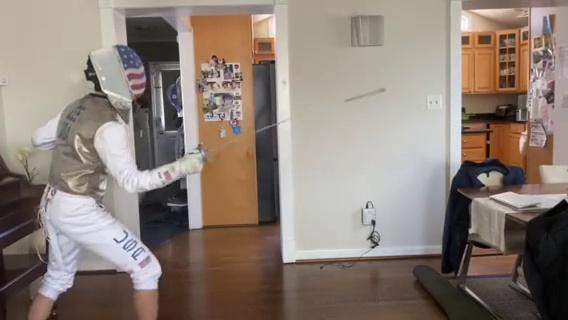blade-guard: (193, 143, 212, 162)
blade-tip: (341, 87, 388, 103)
fencing-blade: (184, 84, 393, 166)
